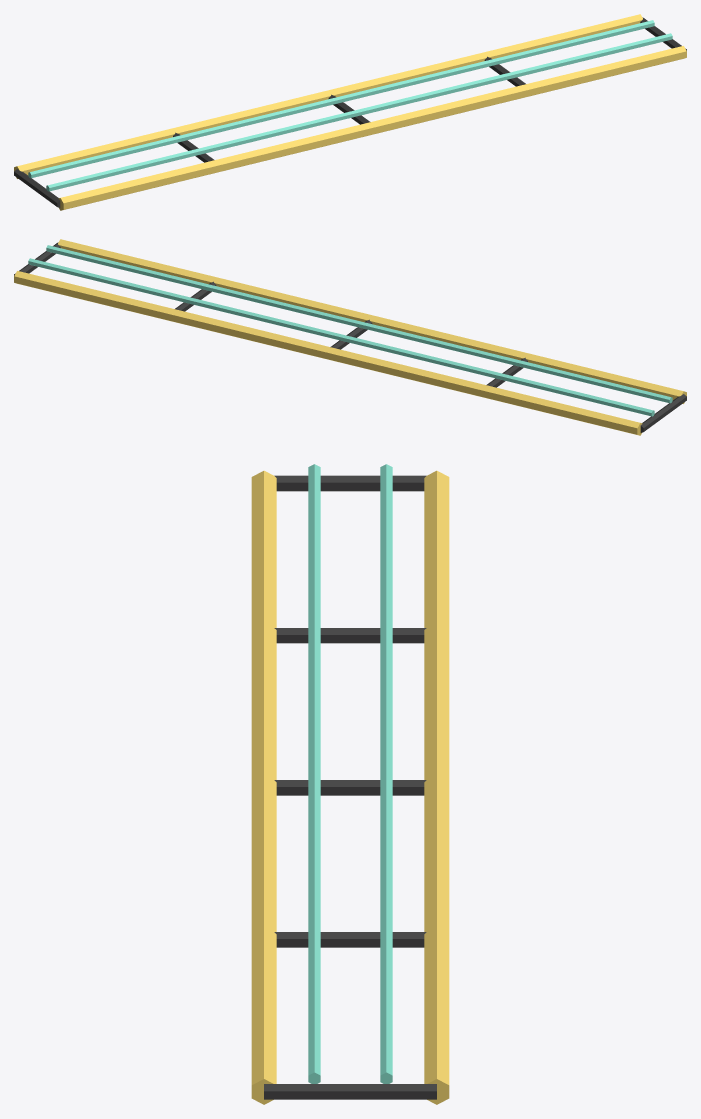
The picture shows the model from 3 angles, top to bottom: view 1: azimuth 30°, elevation 25°; view 2: azimuth 150°, elevation 25°; view 3: azimuth 270°, elevation 25°; orthographic projection. The views are drawn at different scales.
Visible parts, largest first — view 1: Cable rail, Cable rail.001, Cable, Cable.001, Rung; view 2: Cable rail.001, Cable rail, Cable.001, Cable, Rung; view 3: Cable rail, Cable rail.001, Cable, Cable.001, Rung.004, Rung, Rung.002, Rung.003, Rung.001.
Part boxes in pixels (bbox=[...]): Cable rail: bbox=[58, 46, 686, 210]; Cable rail.001: bbox=[14, 14, 642, 178]; Cable: bbox=[46, 33, 672, 191]; Cable.001: bbox=[28, 20, 654, 178]; Rung: bbox=[14, 169, 60, 207]; Cable rail.001: bbox=[14, 271, 642, 435]; Cable rail: bbox=[58, 239, 686, 403]; Cable.001: bbox=[28, 258, 654, 416]; Cable: bbox=[46, 245, 672, 403]; Rung: bbox=[640, 394, 686, 432]; Cable rail: bbox=[251, 470, 276, 1104]; Cable rail.001: bbox=[424, 470, 449, 1104]; Cable: bbox=[308, 464, 320, 1083]; Cable.001: bbox=[380, 464, 392, 1083]; Rung.004: bbox=[264, 1084, 436, 1099]; Rung: bbox=[274, 475, 426, 491]; Rung.002: bbox=[274, 780, 426, 795]; Rung.003: bbox=[274, 932, 426, 947]; Rung.001: bbox=[274, 628, 426, 643].
Bounding box in the file's own units: 202 × 5 × 27.46.
